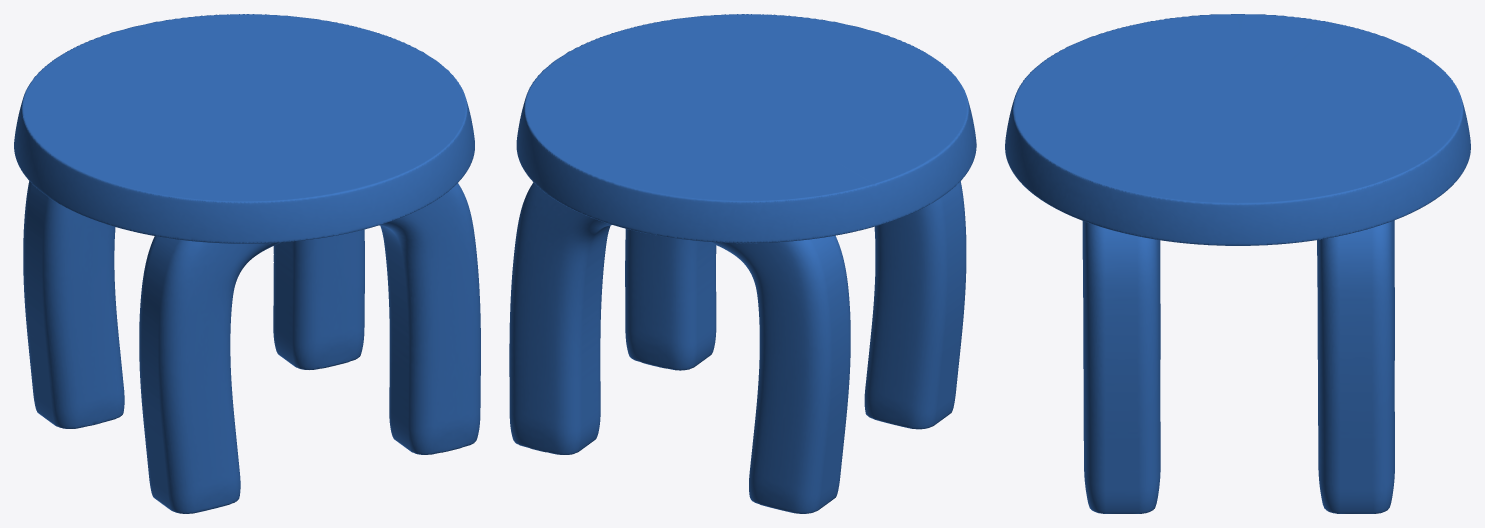
File: circularTable_compressed.glb
3 renders of one model, left to right at view 1: azimuth 30°, elevation 25°; view 2: azimuth 150°, elevation 25°; view 3: azimuth 270°, elevation 25°, orthographic.
Bounding box in the file's own units: 131 × 101 × 131.
Materials: 1 (1 with a texture image).
